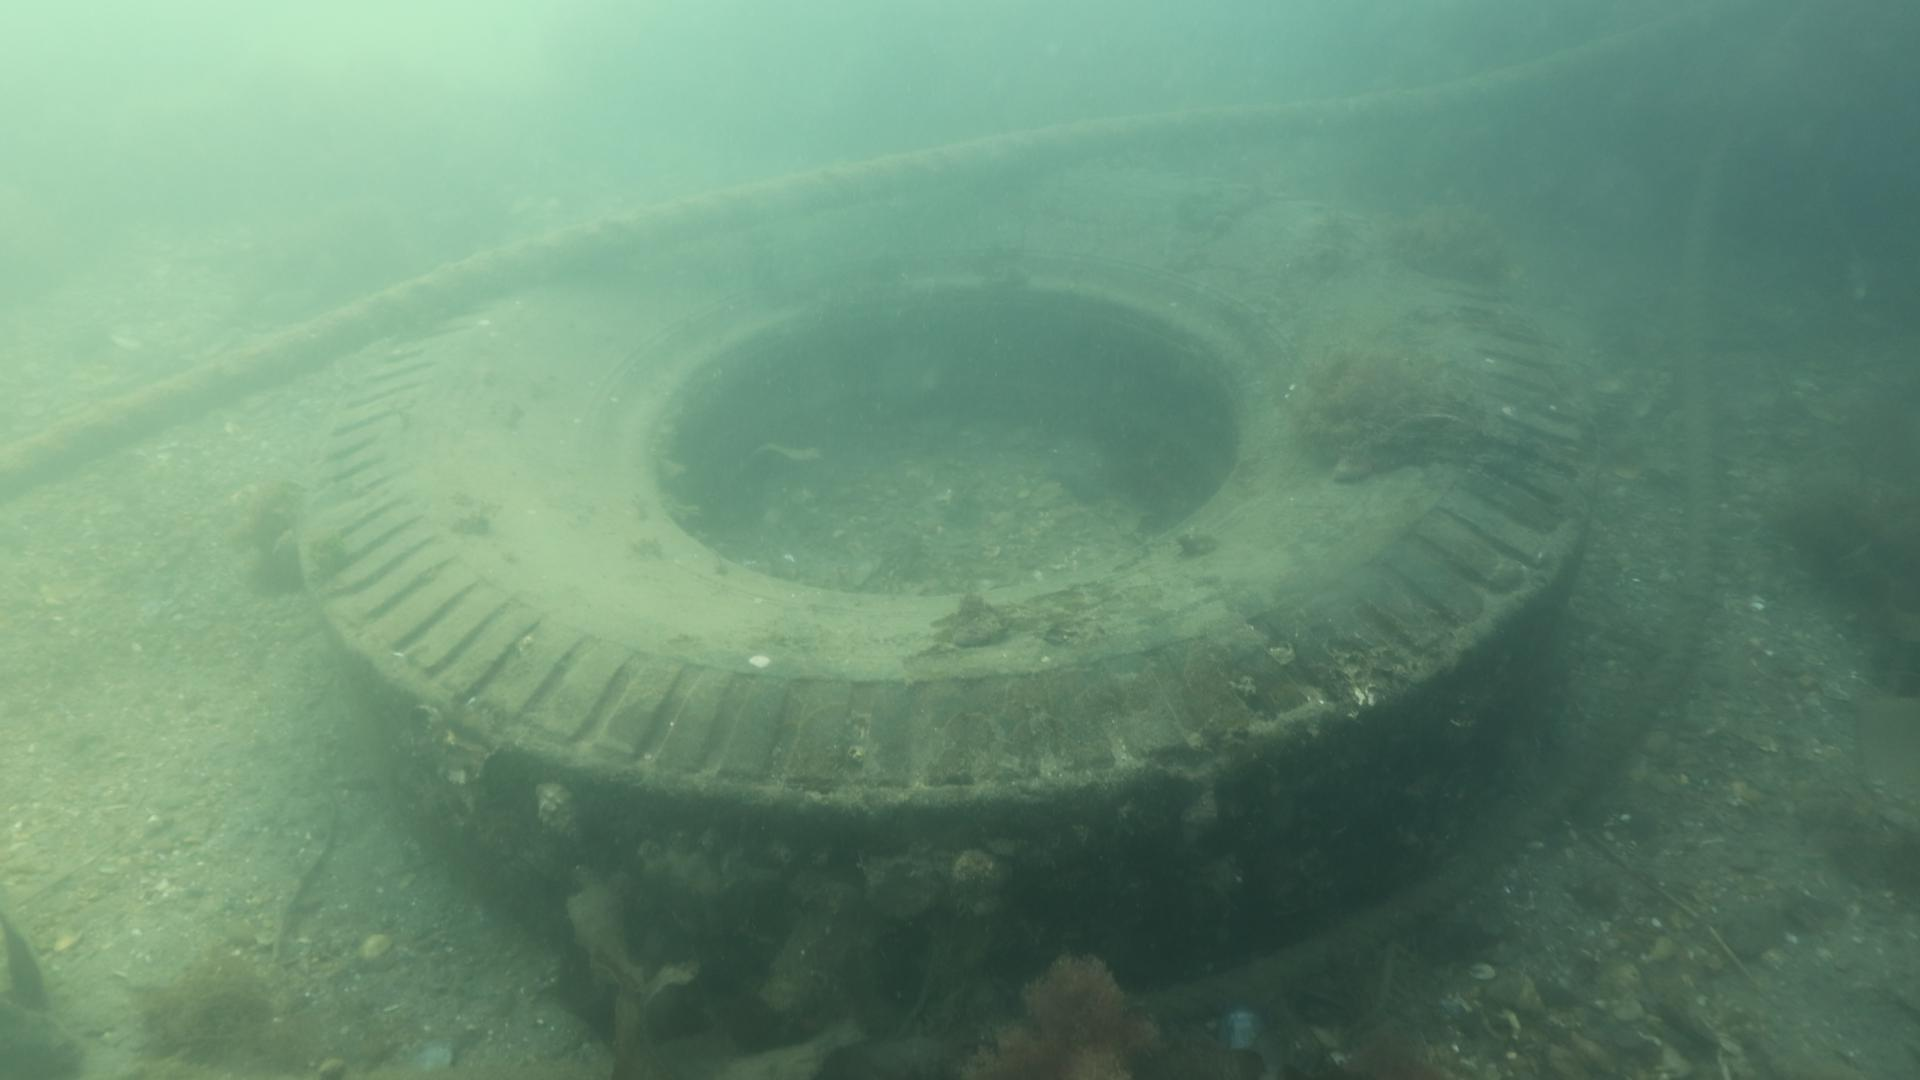rope: (0, 0, 1718, 501), (1516, 504, 1717, 843)
tire: (303, 178, 1600, 1004)
